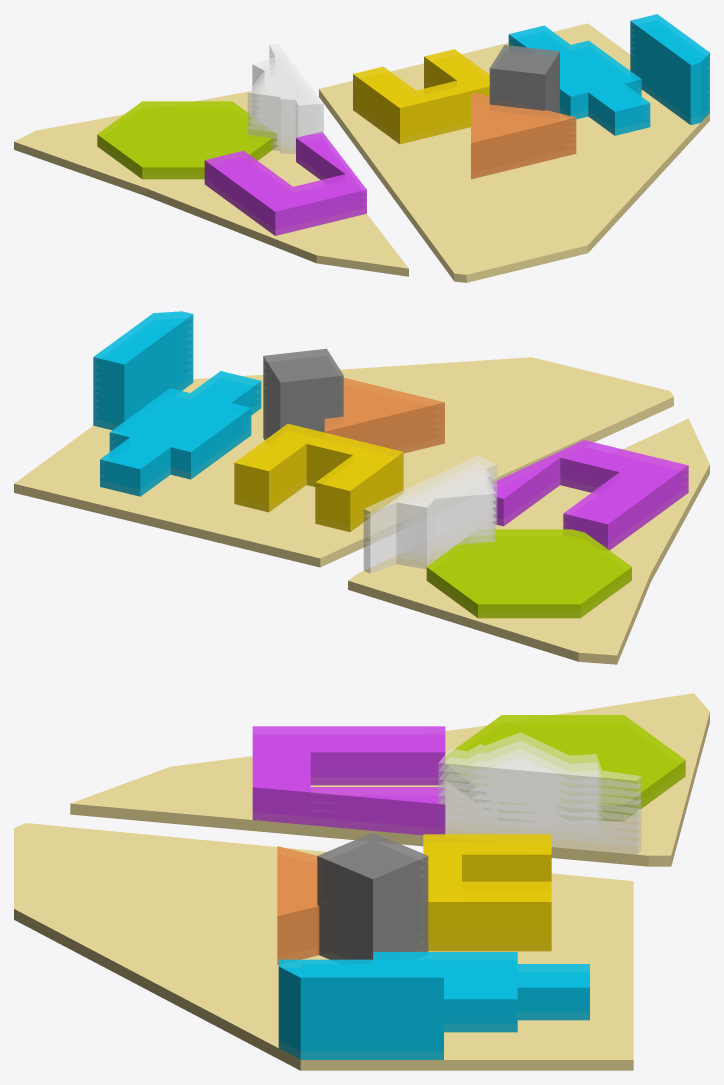
3 views of the same model, one above another, from view 1: azimuth 30°, elevation 25°; view 2: azimuth 150°, elevation 25°; view 3: azimuth 270°, elevation 25° (orthographic). The views are drawn at different scales.
Visible parts, largest first — view 1: Mesh (×47); view 2: Mesh (×46); view 3: Mesh (×48).
Boxes of the visible parts, x1,y1,x2,y2 form: Mesh (×47): (14, 14, 709, 282); Mesh (×46): (14, 311, 709, 664); Mesh (×48): (14, 693, 709, 1070).
Bounding box in the file's own units: 1437 × 200 × 1153.
